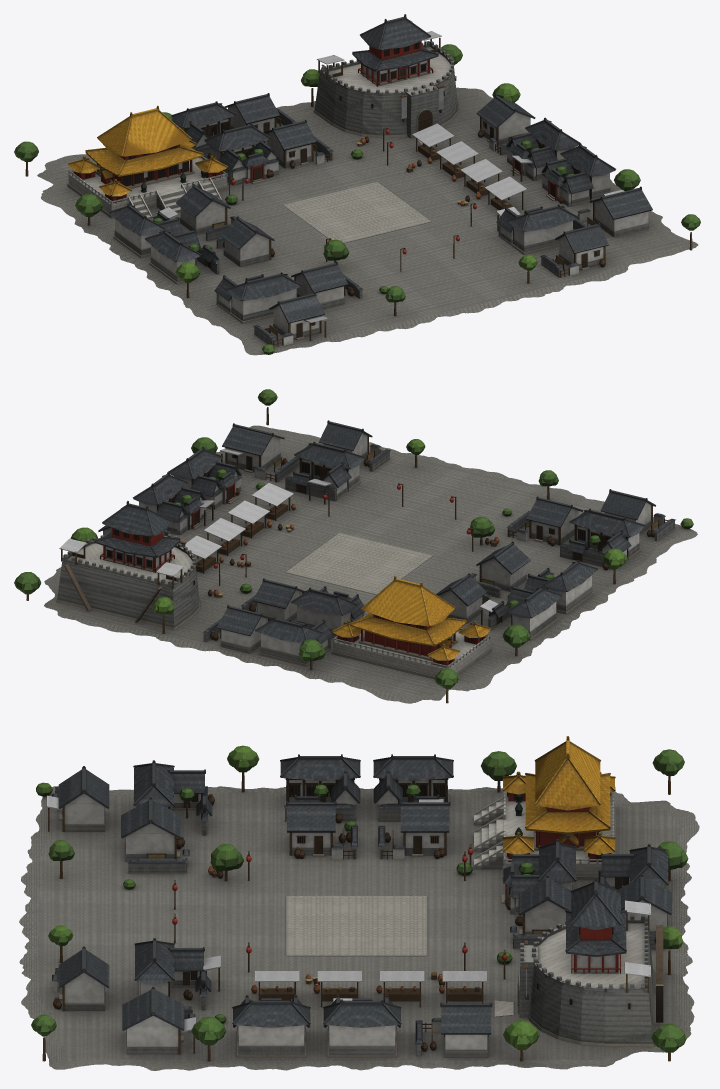
Rendered from gunpowder-town-medium-a-sinic.glb.
3 views of the same model, one above another, from view 1: azimuth 30°, elevation 25°; view 2: azimuth 150°, elevation 25°; view 3: azimuth 270°, elevation 25° (orthographic). The views are drawn at different scales.
Visible parts, largest first — view 1: LOD0; view 2: LOD0; view 3: LOD0.
Boxes of the visible parts, <box> form: LOD0: <box>14,14,700,355</box>; LOD0: <box>14,389,697,703</box>; LOD0: <box>19,736,699,1070</box>.
Size of what is drawn, in the model's own units: 6.03 by 1.25 by 6.09.
3 materials, 3 textured.
